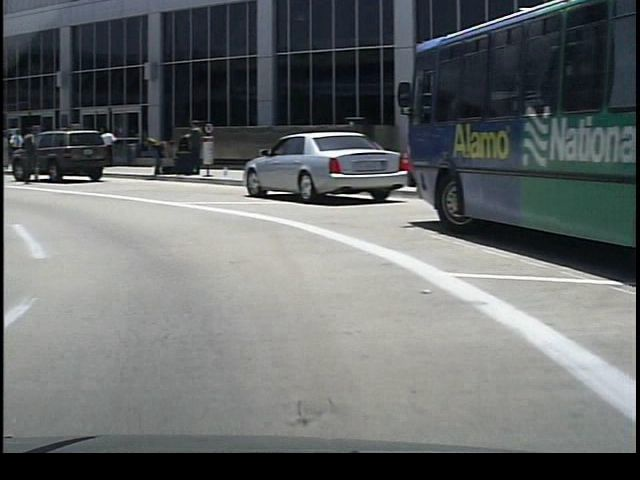person: (17, 117, 46, 193), (142, 130, 171, 184), (179, 120, 199, 177), (95, 126, 116, 167)
